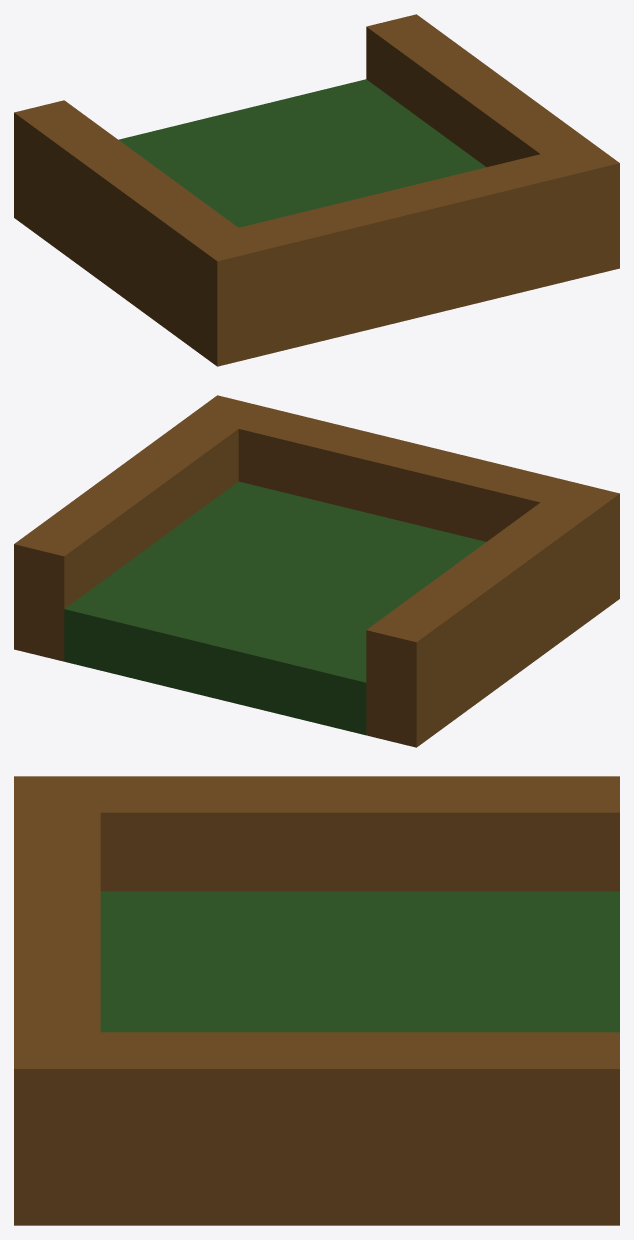
Rendered from Dead End.fbx.
The picture shows the model from 3 angles, top to bottom: view 1: azimuth 30°, elevation 25°; view 2: azimuth 150°, elevation 25°; view 3: azimuth 270°, elevation 25°; orthographic projection. The views are drawn at different scales.
Visible parts, largest first — view 1: Border_3, Path, Border_2, Border_1; view 2: Path, Border_2, Border_3, Border_1; view 3: Border_1, Path, Border_2, Border_3.
Boxes of the visible parts, <box> form: Border_3: <box>188,142,619,366</box>; Path: <box>118,79,485,227</box>; Border_2: <box>14,100,238,344</box>; Border_1: <box>366,14,590,167</box>; Path: <box>64,481,485,735</box>; Border_2: <box>366,502,590,747</box>; Border_3: <box>188,395,619,619</box>; Border_1: <box>14,416,238,661</box>; Border_1: <box>100,1032,619,1225</box>; Path: <box>100,891,619,1032</box>; Border_2: <box>100,776,619,891</box>; Border_3: <box>14,776,100,1225</box>.
Size of the model in its own units: 800 by 200 by 700.
